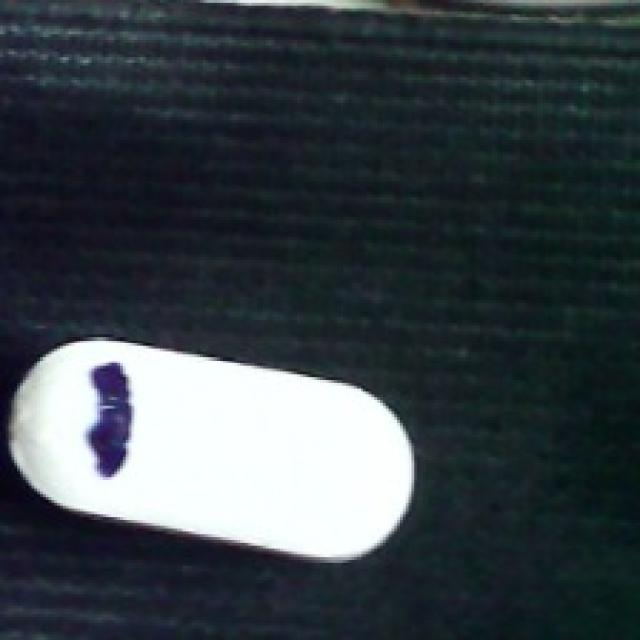defected: (0, 335, 423, 569)
